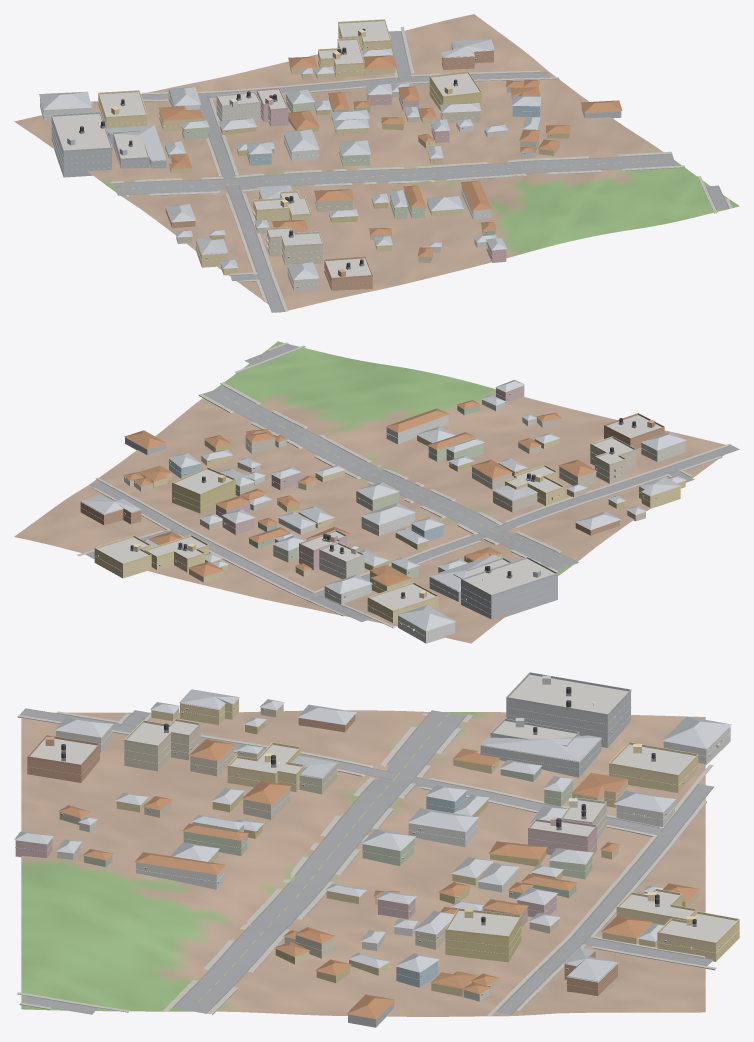
3 renders of one model, top to bottom at view 1: azimuth 30°, elevation 25°; view 2: azimuth 150°, elevation 25°; view 3: azimuth 270°, elevation 25°, orthographic. The views are drawn at different scales.
Parts seen in each view (by area): view 1: Terrain-col, Buildings-col, Roads-col, Details, Sidewalks-col; view 2: Terrain-col, Buildings-col, Roads-col, Details, Sidewalks-col; view 3: Terrain-col, Buildings-col, Roads-col, Details, Sidewalks-col.
Part boxes in pixels (x1,y1,x2,y2): Terrain-col: (14, 14, 739, 312); Buildings-col: (39, 21, 622, 291); Roads-col: (113, 31, 729, 312); Details: (40, 19, 551, 287); Sidewalks-col: (90, 26, 732, 311); Terrain-col: (14, 341, 725, 643); Buildings-col: (80, 379, 686, 643); Roads-col: (86, 344, 739, 621); Details: (80, 390, 685, 636); Sidewalks-col: (77, 342, 730, 627); Terrain-col: (21, 710, 705, 1016); Buildings-col: (14, 674, 739, 1027); Roads-col: (20, 708, 713, 1014); Details: (15, 672, 739, 995); Sidewalks-col: (17, 711, 716, 1016).
Size of the model in its own units: 276 by 20.75 by 272.
